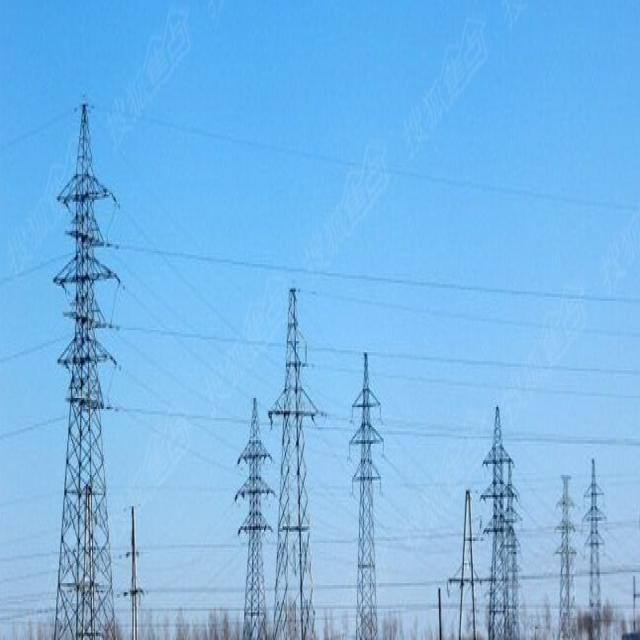non-critical vegetation: (38, 82, 132, 631), (266, 273, 320, 631), (344, 341, 390, 631), (238, 374, 270, 631), (479, 403, 515, 631)
